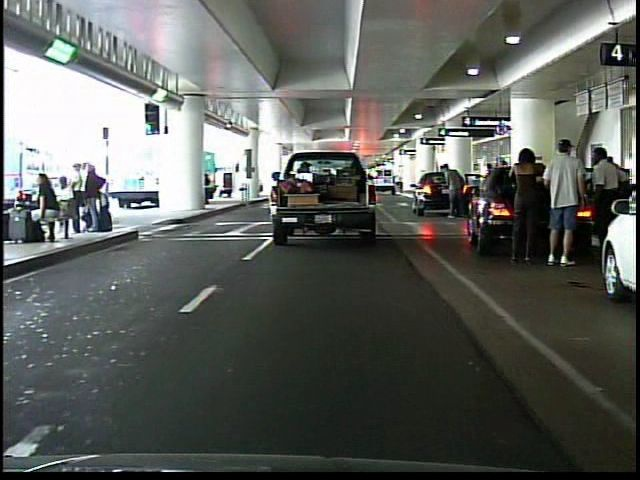person: (501, 137, 545, 272), (542, 137, 586, 267), (586, 140, 627, 277), (441, 158, 467, 227)
